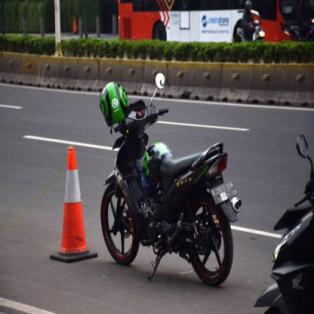Motocicleta: (97, 74, 239, 288)
